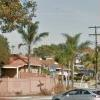Tree: (11, 16, 82, 66)
